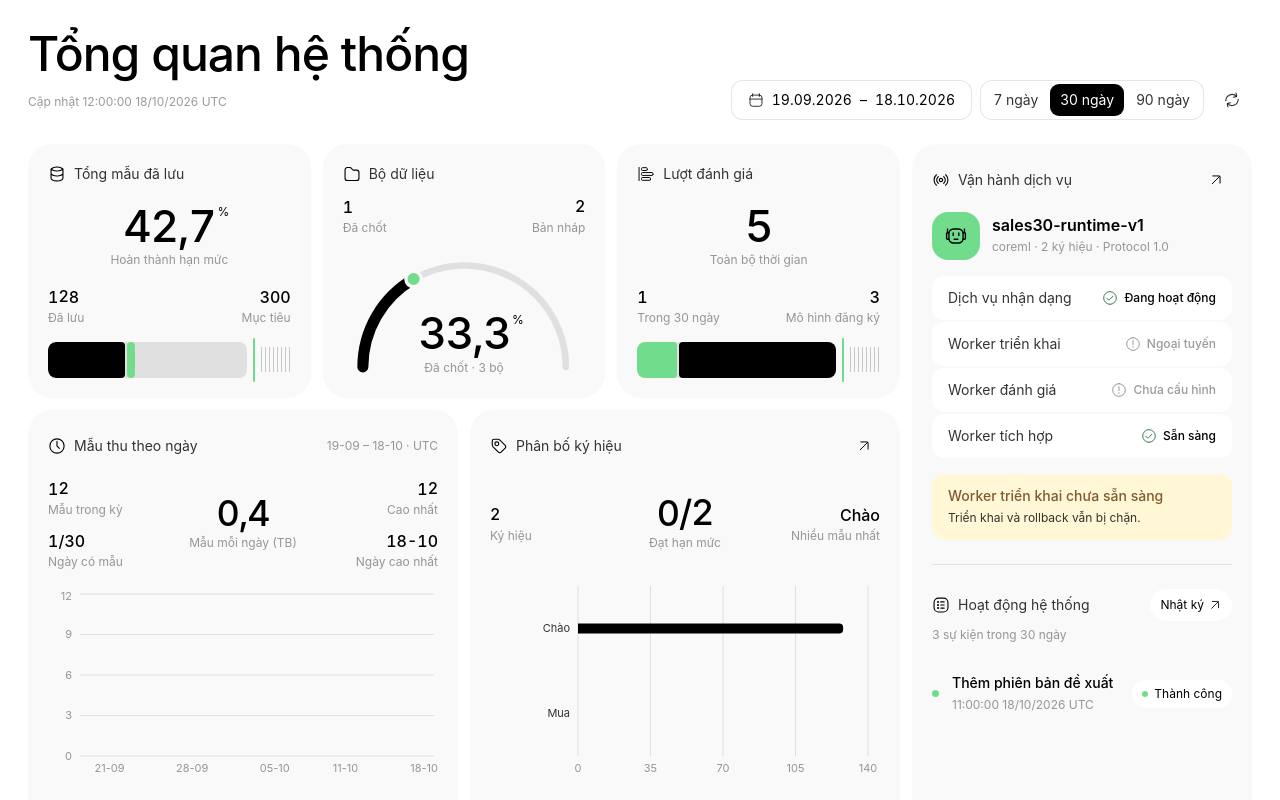
keeps the previous range on screen while another range loads
This screenshot has width=1280, height=800.
Click the radio button labelled "7 ngày". click: (1016, 99)
box: top-left (994, 91), bottom-right (1038, 108)
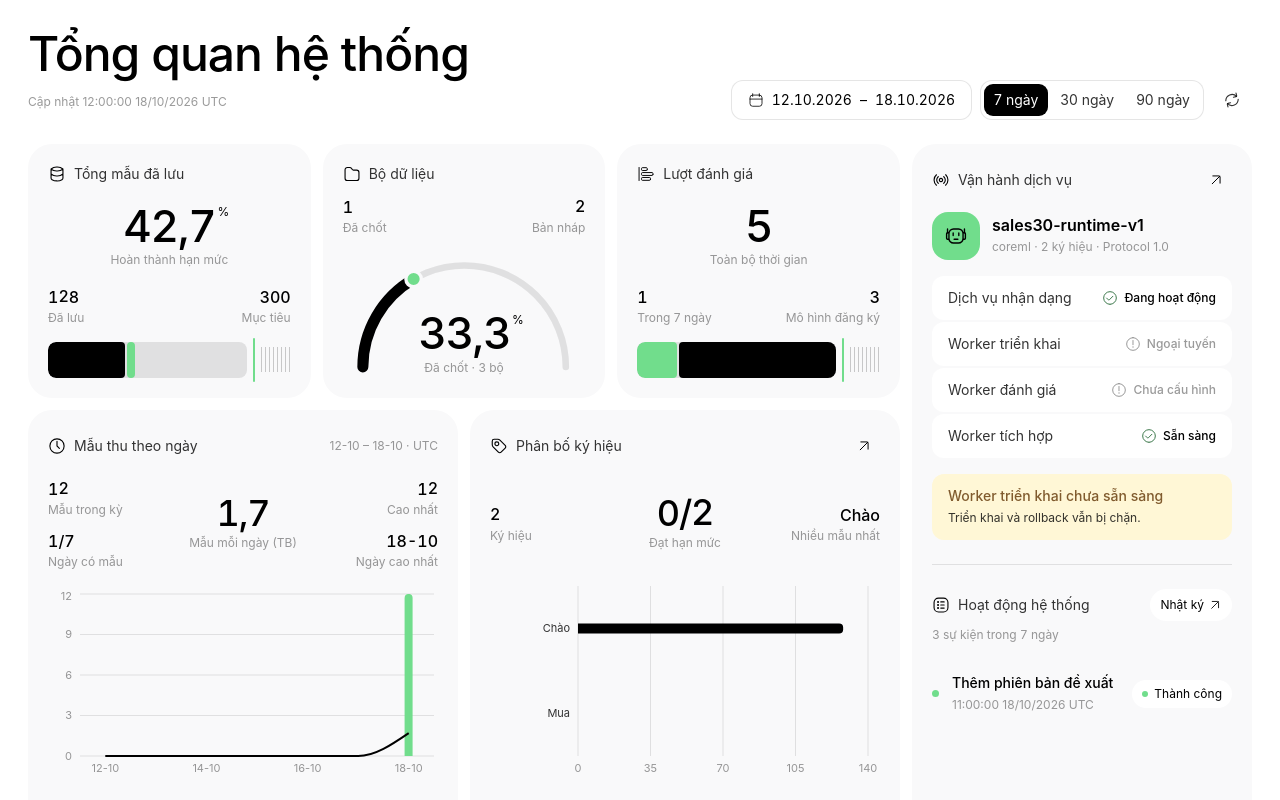
expect the text "Trong 7 ngày" is shown: met, box top-left (637, 310), bottom-right (712, 326)
